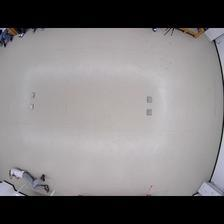fall: (9, 168, 53, 194)
